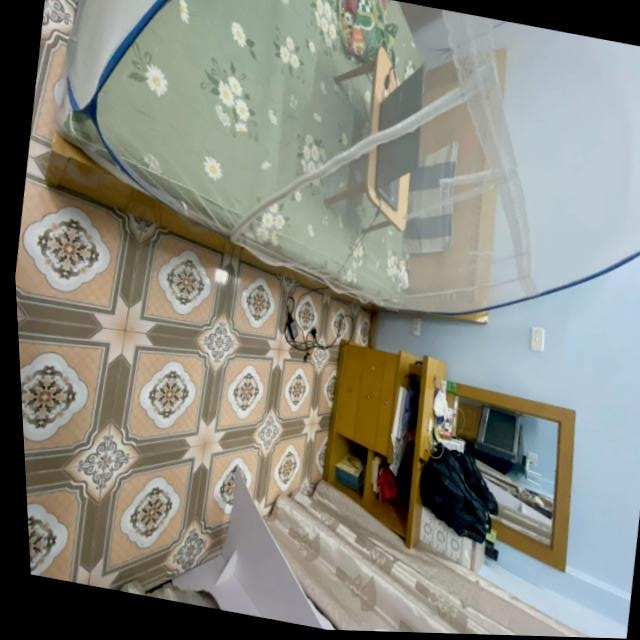outlet: (405, 311, 424, 340)
